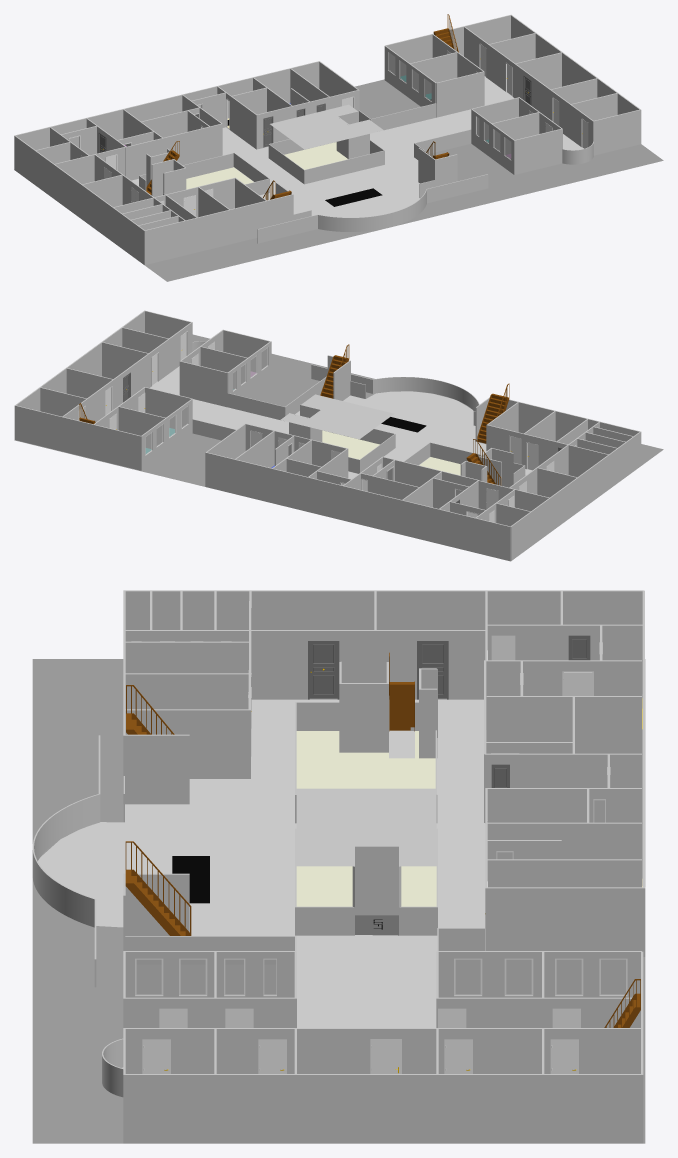
The model's file is 1st floor.obj.
The picture shows the model from 3 angles, top to bottom: view 1: azimuth 30°, elevation 25°; view 2: azimuth 150°, elevation 25°; view 3: azimuth 270°, elevation 25°; orthographic projection. The views are drawn at different scales.
Parts seen in each view (by area): view 1: ground_1, room_123_590, wall_1_5, wall_12_71, wall_14_83, room_127_595, wall_95_557, wall_76_449, wall_50_293, wall_54_317, wall_47_274, wall_66_389 (+54 smaller); view 2: wall_12_70, room_123_590, ground_1, room_127_595, wall_95_557, wall_3_17, wall_76_449, wall_45_262, wall_56_329, wall_51_299, wall_1_4, wall_66_388 (+48 smaller); view 3: room_123_590, ground_1, wall_77_455, wall_94_551, wall_76_448, wall_95_556, wall_22_125, room_127_595, wall_17_94, wall_80_473, wall_81_479, room_126_593 (+50 smaller).
Boxes of the visible parts, box(x1,y1,x2,y2) form: ground_1: box(145, 76, 663, 281); room_123_590: box(131, 76, 583, 217); wall_1_5: box(144, 194, 293, 264); wall_12_71: box(16, 62, 319, 150); wall_14_83: box(126, 124, 222, 180); room_127_595: box(270, 104, 383, 149); wall_95_557: box(53, 165, 121, 247); wall_76_449: box(514, 64, 593, 146); wall_50_293: box(593, 110, 641, 155); wall_54_317: box(514, 129, 562, 174); wall_47_274: box(436, 71, 484, 117); wall_66_389: box(318, 190, 426, 231); wall_12_70: box(206, 453, 510, 561); room_123_590: box(150, 366, 532, 478); ground_1: box(14, 334, 663, 560); room_127_595: box(280, 394, 394, 439); wall_95_557: box(550, 449, 618, 531); wall_3_17: box(486, 425, 607, 477); wall_76_449: box(114, 322, 192, 408); wall_45_262: box(93, 425, 141, 470); wall_56_329: box(179, 361, 227, 407); wall_51_299: box(14, 406, 61, 451); wall_1_4: box(505, 400, 639, 441); wall_66_388: box(373, 377, 478, 411); room_123_590: box(38, 699, 485, 1068); ground_1: box(32, 659, 645, 1143); wall_77_455: box(123, 1075, 437, 1143); wall_94_551: box(215, 631, 485, 699); wall_76_448: box(125, 1029, 436, 1073); wall_95_556: box(216, 591, 485, 629); wall_22_125: box(485, 888, 645, 956); room_127_595: box(296, 788, 436, 866); wall_17_94: box(486, 697, 641, 753); wall_80_473: box(437, 1075, 542, 1143); wall_81_479: box(543, 1075, 643, 1143); room_126_593: box(296, 731, 435, 788).
Bounding box in the file's own units: 3694 × 362 × 1972.
Materials: 50 (34 with a texture image).
